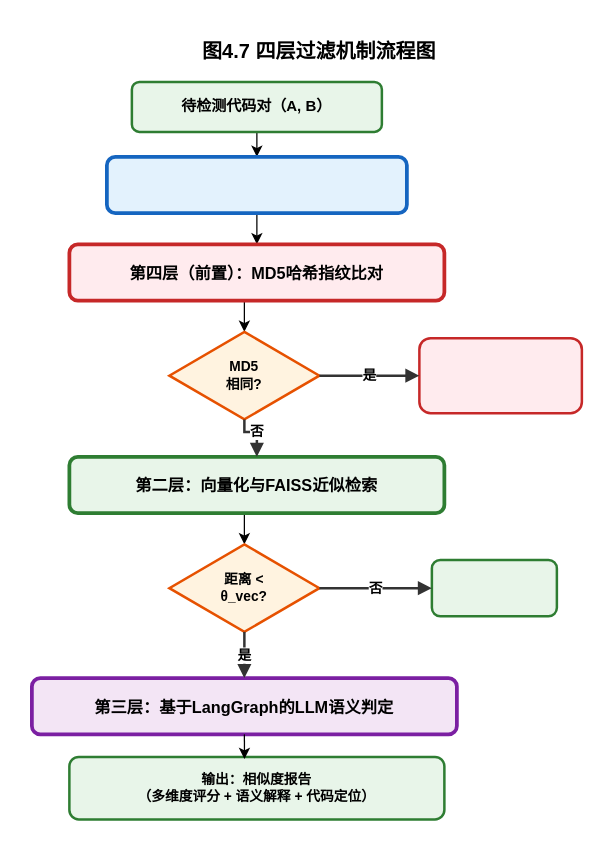
This 604x841 diagram has some shape labels left out. Here are the shapes that lost their labels. From the top down, the box of each, then its label:
(104, 154, 408, 214): 第一层：代码标准化
(418, 336, 582, 414): 100%复制 （最高置信度） 流程终止
(430, 558, 558, 617): 不相似 流程终止
